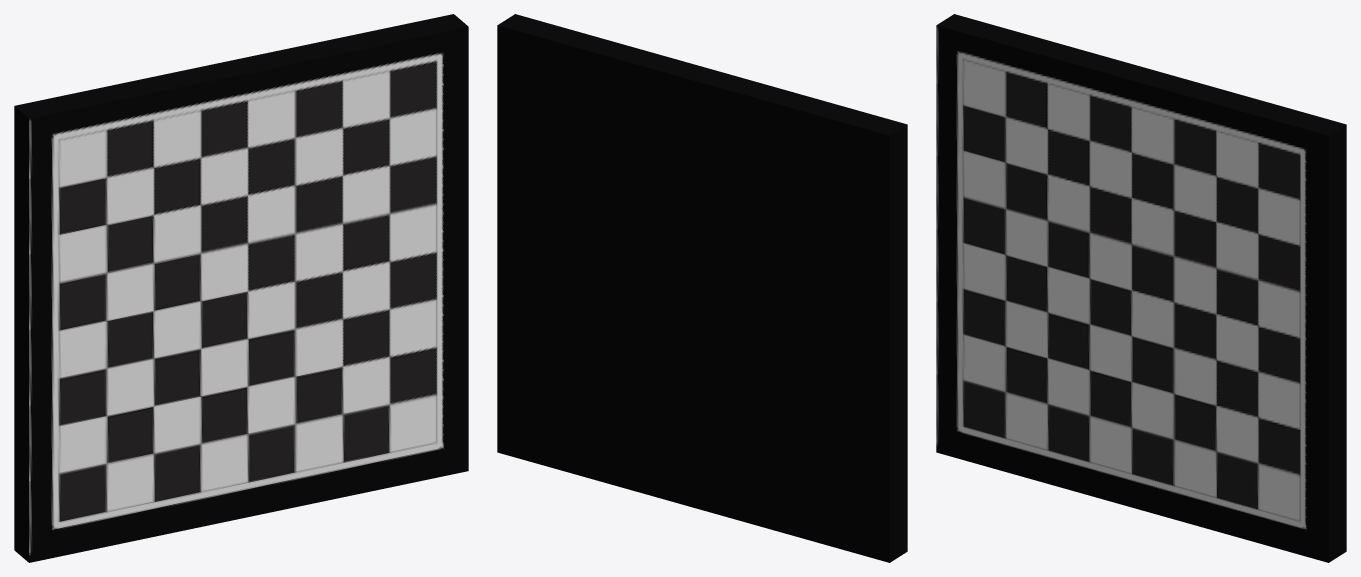
3 renders of one model, left to right at view 1: azimuth 30°, elevation 25°; view 2: azimuth 150°, elevation 25°; view 3: azimuth 330°, elevation 25°, orthographic. The views are drawn at different scales.
Parts seen in each view (by area): view 1: mesh_id27; view 2: mesh_id27; view 3: mesh_id27.
Boxes of the visible parts, bbox=[...] form: mesh_id27: bbox=[14, 14, 468, 562]; mesh_id27: bbox=[497, 14, 907, 562]; mesh_id27: bbox=[936, 14, 1346, 562].
Size of the model in its own units: 0.3189 by 0.3182 by 0.0421.
1 material, 1 textured.
